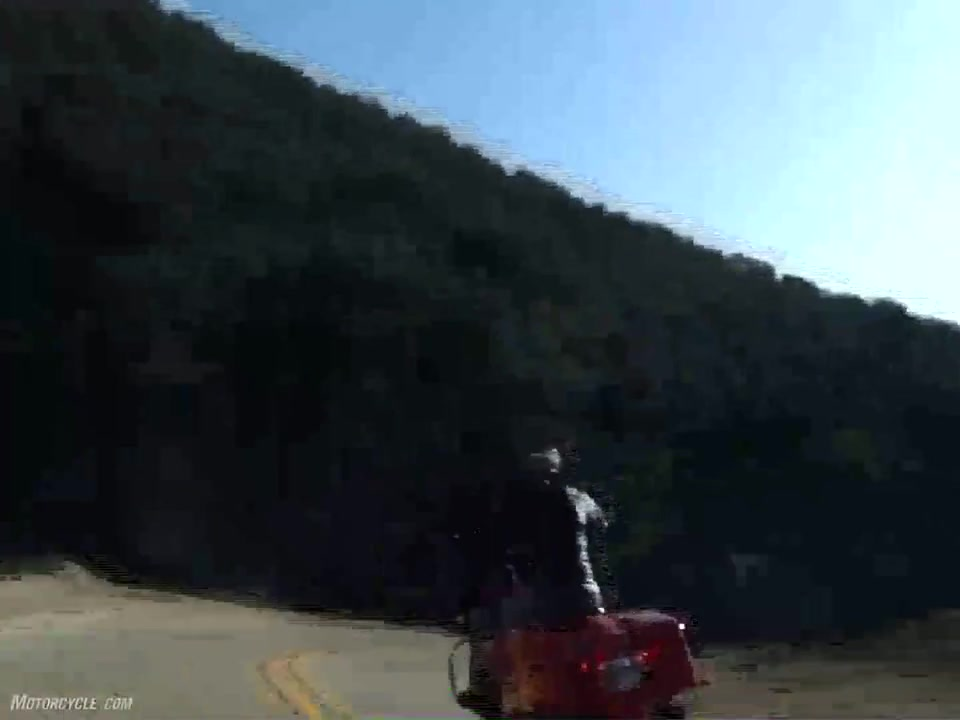motorbike: (446, 527, 708, 719)
